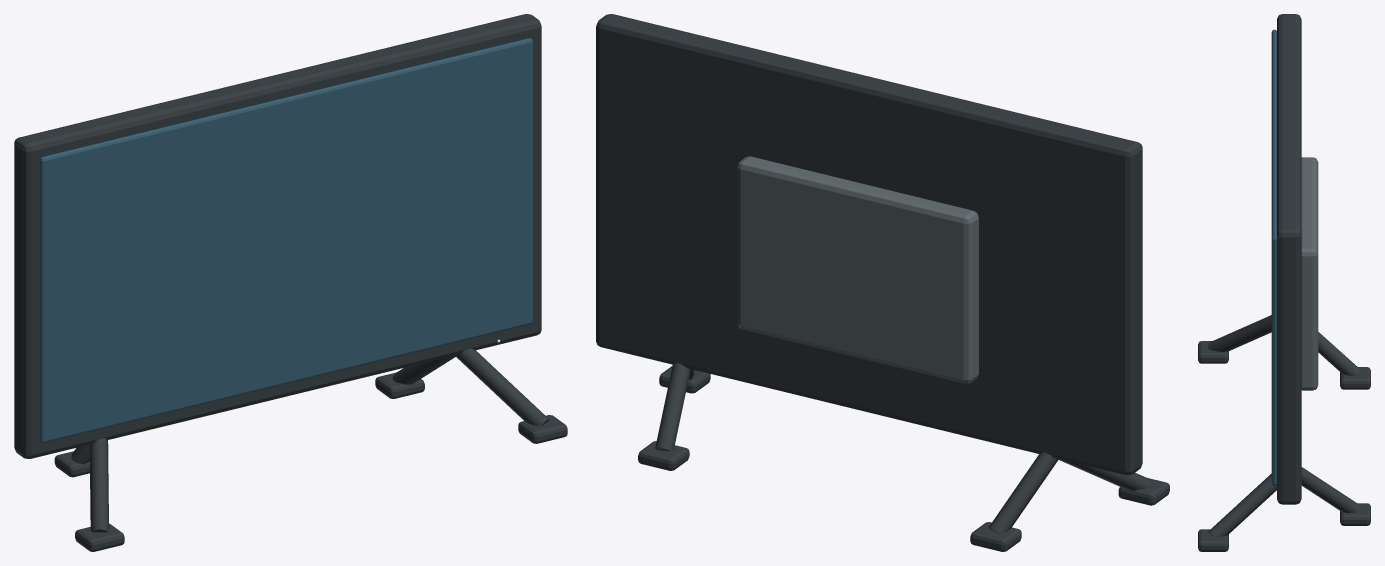
The model's file is tv_flat_screen.glb.
The picture shows the model from 3 angles, left to right: view 1: azimuth 30°, elevation 25°; view 2: azimuth 150°, elevation 25°; view 3: azimuth 270°, elevation 25°; orthographic projection. The views are drawn at different scales.
Visible parts, largest first — view 1: Flat_TV_Screen, Flat_TV_Frame, Flat_TV_Stand_Foot_1_0, Flat_TV_Stand_Foot_-1_0, Flat_TV_Foot_Pad_-1_0, Flat_TV_Foot_Pad_1_0, Flat_TV_Foot_Pad_1_1, Flat_TV_Stand_Foot_1_1; view 2: Flat_TV_Frame, Flat_TV_Rear_Electronics, Flat_TV_Stand_Foot_-1_1, Flat_TV_Stand_Foot_1_1, Flat_TV_Foot_Pad_1_1, Flat_TV_Foot_Pad_-1_1, Flat_TV_Stand_Foot_-1_0, Flat_TV_Foot_Pad_-1_0; view 3: Flat_TV_Frame, Flat_TV_Rear_Electronics, Flat_TV_Screen, Flat_TV_Stand_Foot_1_0, Flat_TV_Stand_Foot_1_1, Flat_TV_Stand_Foot_-1_0, Flat_TV_Stand_Foot_-1_1, Flat_TV_Foot_Pad_1_0, Flat_TV_Foot_Pad_-1_1, Flat_TV_Foot_Pad_1_1, Flat_TV_Foot_Pad_-1_0.
Part boxes in pixels (box(x1,y1,x2,y2)): Flat_TV_Screen: box(39, 38, 532, 443); Flat_TV_Frame: box(14, 14, 541, 458); Flat_TV_Stand_Foot_1_0: box(455, 348, 549, 426); Flat_TV_Stand_Foot_-1_0: box(89, 438, 108, 532); Flat_TV_Foot_Pad_-1_0: box(75, 523, 124, 551); Flat_TV_Foot_Pad_1_0: box(518, 415, 567, 443); Flat_TV_Foot_Pad_1_1: box(375, 372, 424, 398); Flat_TV_Stand_Foot_1_1: box(392, 355, 455, 384); Flat_TV_Frame: box(596, 14, 1142, 475); Flat_TV_Rear_Electronics: box(737, 156, 978, 383); Flat_TV_Stand_Foot_-1_1: box(988, 452, 1058, 533); Flat_TV_Stand_Foot_1_1: box(655, 363, 690, 451); Flat_TV_Foot_Pad_1_1: box(638, 441, 689, 470); Flat_TV_Foot_Pad_-1_1: box(970, 522, 1021, 551); Flat_TV_Stand_Foot_-1_0: box(1058, 459, 1150, 490); Flat_TV_Foot_Pad_-1_0: box(1118, 478, 1169, 505); Flat_TV_Frame: box(1277, 14, 1301, 504); Flat_TV_Rear_Electronics: box(1301, 157, 1318, 390); Flat_TV_Screen: box(1271, 29, 1276, 485); Flat_TV_Stand_Foot_1_0: box(1208, 473, 1276, 537); Flat_TV_Stand_Foot_1_1: box(1301, 467, 1360, 512); Flat_TV_Stand_Foot_-1_0: box(1208, 315, 1271, 351); Flat_TV_Stand_Foot_-1_1: box(1318, 332, 1360, 375); Flat_TV_Foot_Pad_1_0: box(1198, 529, 1228, 551); Flat_TV_Foot_Pad_-1_1: box(1340, 367, 1370, 389); Flat_TV_Foot_Pad_1_1: box(1340, 503, 1370, 525); Flat_TV_Foot_Pad_-1_0: box(1198, 341, 1228, 363).
Bounding box in the file's own units: 1.1 × 0.7685 × 0.365.
